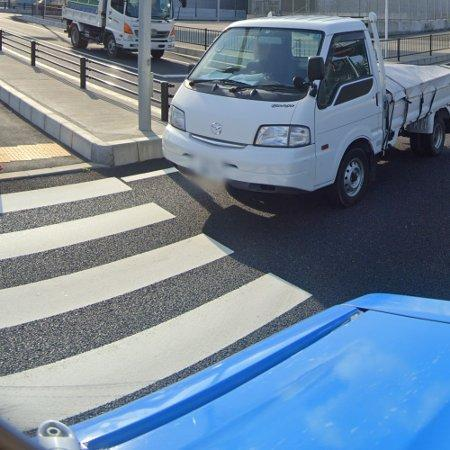crosswalks: (0, 173, 318, 435)
